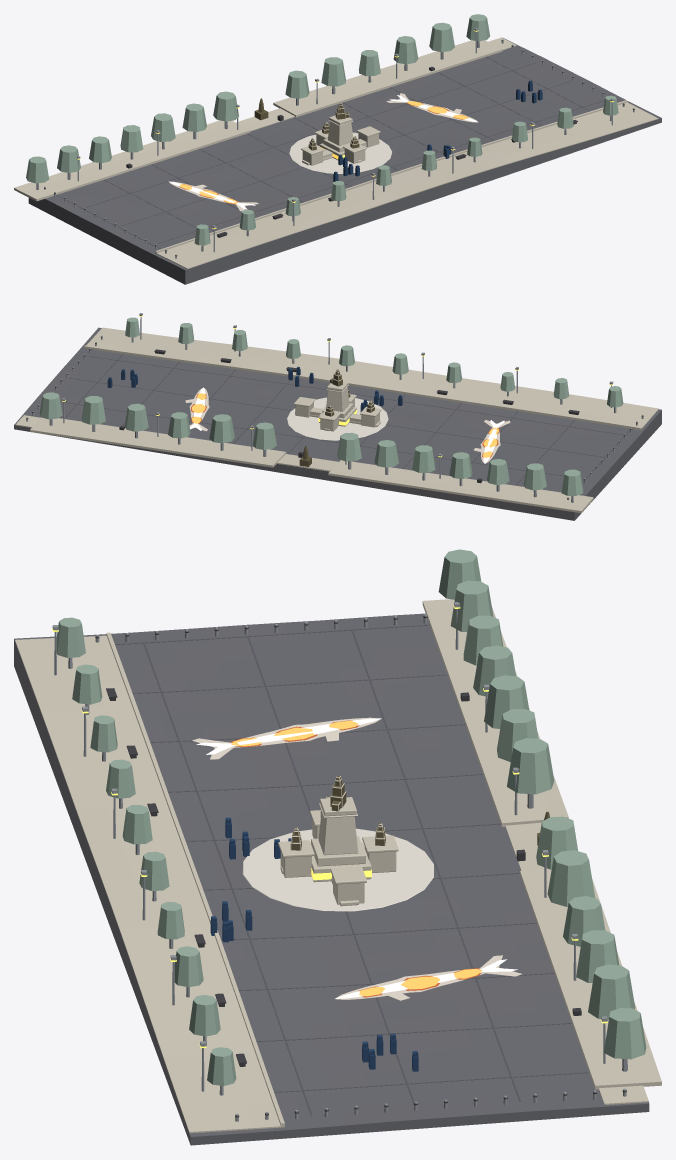
The model's file is fulton-plaza.optimized.glb.
3 views of the same model, one above another, from view 1: azimuth 30°, elevation 25°; view 2: azimuth 150°, elevation 25°; view 3: azimuth 270°, elevation 25° (orthographic). The views are drawn at different scales.
Visible parts, largest first — view 1: deck, terrace_s, trees, bed_west_kerb, bed_east_kerb, monument, joints, apron, terrace_s_wall, koi_glow, walk_n, koi (+2 smaller); view 2: deck, terrace_s, trees, bed_west_kerb, bed_east_kerb, monument, joints, terrace_s_wall, apron, koi_glow, walk_n, people (+3 smaller); view 3: deck, terrace_s, trees, monument, bed_east_kerb, joints, bed_west_kerb, apron, koi_glow, terrace_s_wall, koi, people (+4 smaller).
Boxes of the visible parts, x1,y1,x2,y2 form: deck: [28, 38, 661, 284]; terrace_s: [156, 102, 658, 269]; trees: [26, 14, 618, 251]; bed_west_kerb: [14, 120, 250, 201]; bed_east_kerb: [273, 40, 502, 117]; monument: [301, 103, 380, 165]; joints: [56, 56, 604, 249]; apron: [289, 132, 391, 173]; terrace_s_wall: [155, 100, 627, 253]; koi_glow: [169, 95, 477, 209]; walk_n: [236, 37, 516, 131]; koi: [169, 93, 478, 211]; deck: [14, 327, 661, 520]; terrace_s: [84, 327, 658, 430]; trees: [39, 317, 623, 502]; bed_west_kerb: [328, 460, 593, 512]; bed_east_kerb: [30, 417, 286, 467]; monument: [294, 369, 381, 431]; joints: [60, 354, 630, 485]; terrace_s_wall: [84, 345, 641, 429]; apron: [287, 397, 388, 440]; koi_glow: [190, 387, 504, 463]; walk_n: [15, 415, 338, 471]; people: [107, 366, 402, 411]; deck: [14, 613, 649, 1145]; terrace_s: [15, 635, 284, 1133]; trees: [56, 549, 646, 1095]; monument: [278, 775, 398, 906]; bed_east_kerb: [520, 869, 661, 1089]; joints: [115, 624, 589, 1115]; bed_west_kerb: [422, 599, 568, 827]; apron: [242, 828, 433, 911]; koi_glow: [196, 718, 517, 998]; terrace_s_wall: [106, 632, 284, 1127]; koi: [192, 717, 522, 1000]; people: [210, 817, 418, 1071].
Size of the model in its own units: 128 by 12.8 by 67.63.
